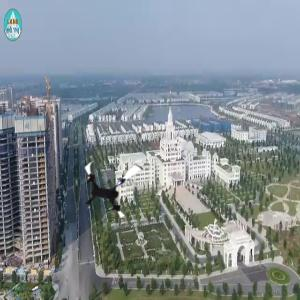drone: (77, 152, 149, 224)
